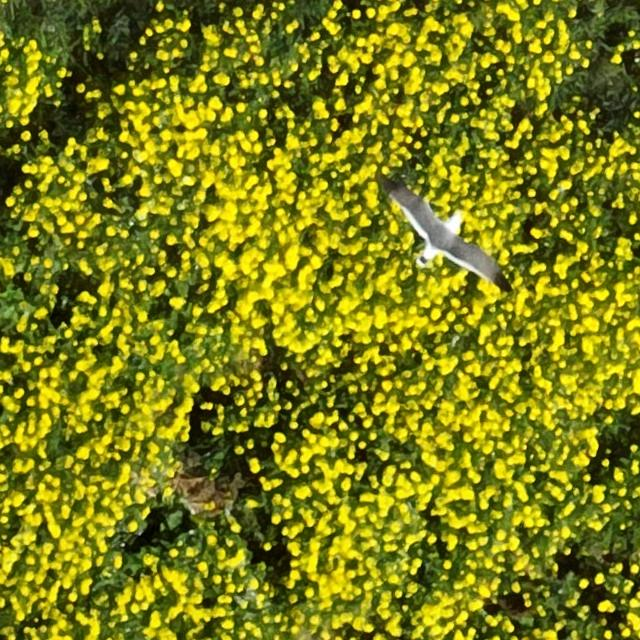F: (397, 197, 493, 274)
